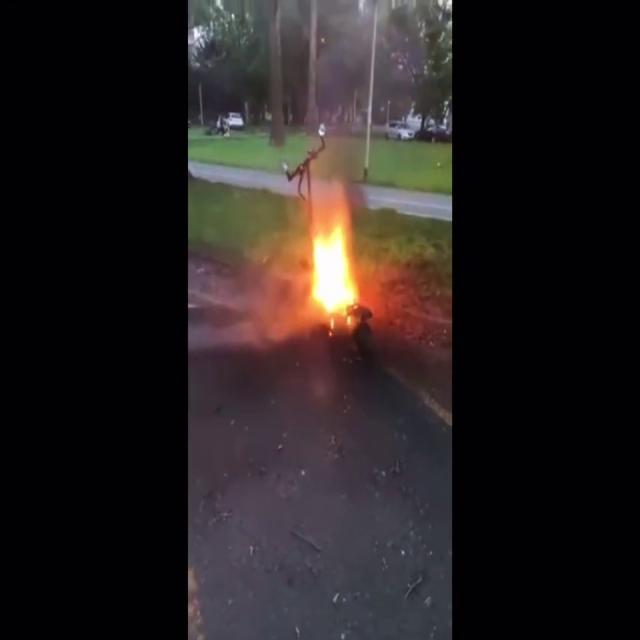Fire: (306, 214, 360, 322)
Smoke: (308, 0, 383, 200), (247, 207, 309, 343)
